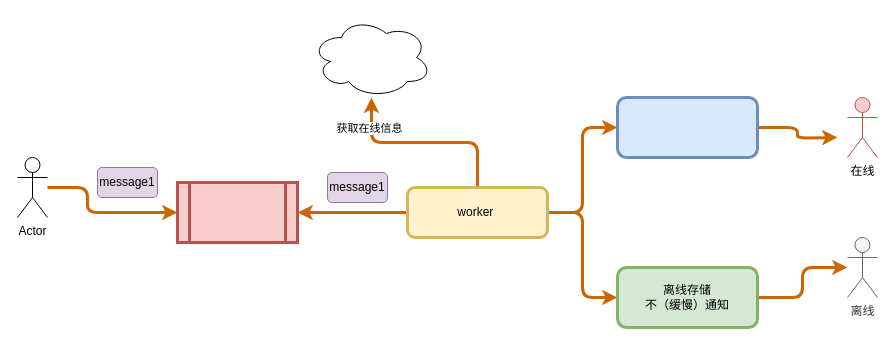
The diagram is 895 pixels wide and 346 high, and some of its shapes have lost their labels. The shapes that lost their labels are listed below. From the top down, each one's centre as x and y in pixels, then its label:
pixel 371 57: Cache
pixel 687 127: push/longlink service
pixel 237 212: kafka
